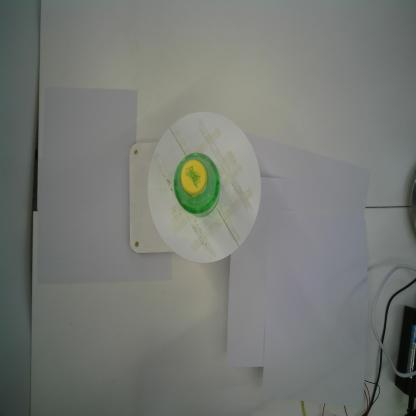Drink: (172, 150, 221, 222)
